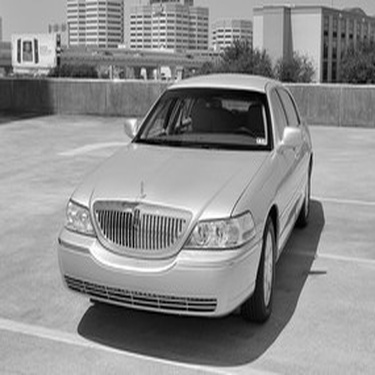car: (64, 73, 329, 325)
